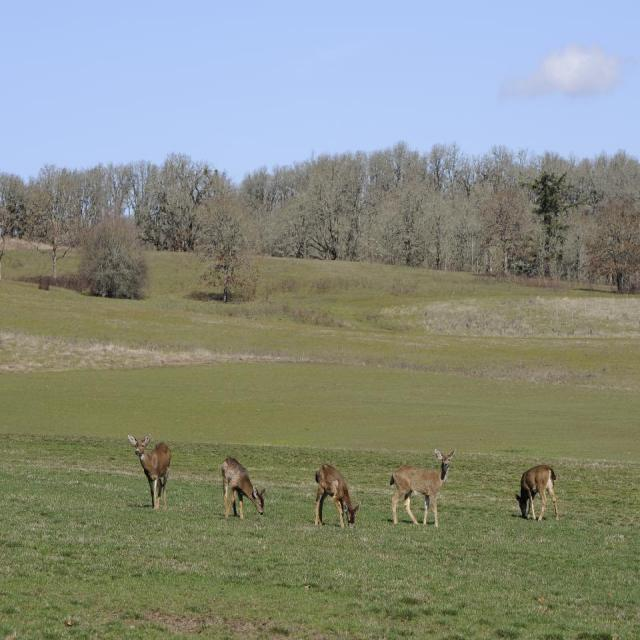Deer: (387, 446, 452, 527), (126, 432, 170, 511), (313, 462, 361, 528), (511, 462, 562, 522), (219, 455, 264, 519)
